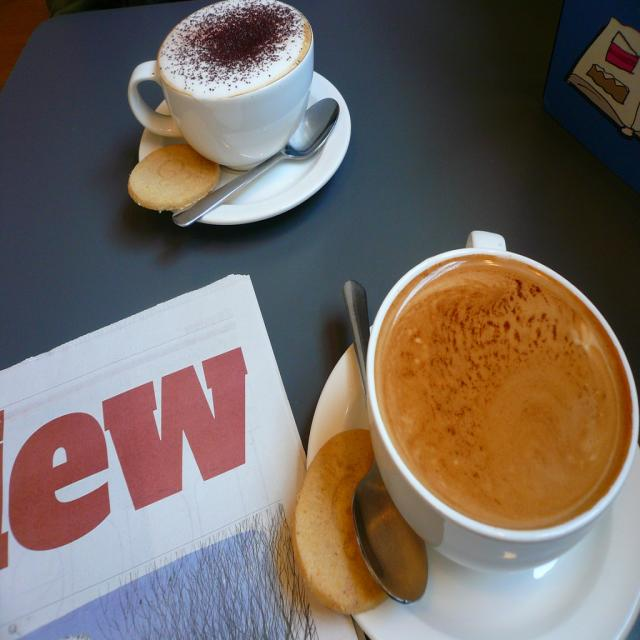Coffee: (365, 255, 631, 567), (160, 5, 308, 88)
Tea: (372, 250, 634, 526), (158, 0, 311, 97)
